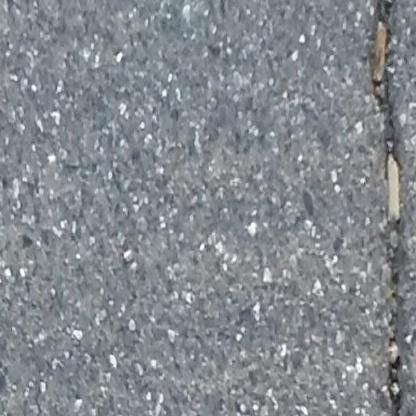Cracks: (372, 0, 412, 416)
